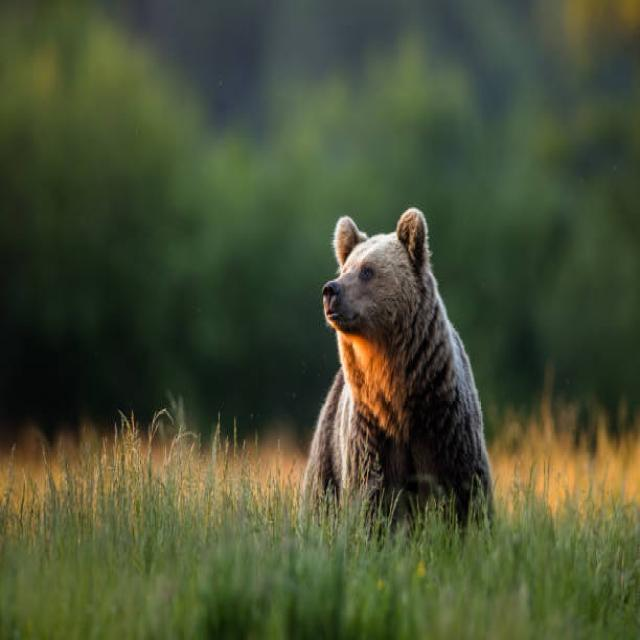Animal: (261, 166, 563, 624)
Forest: (4, 0, 640, 640)
